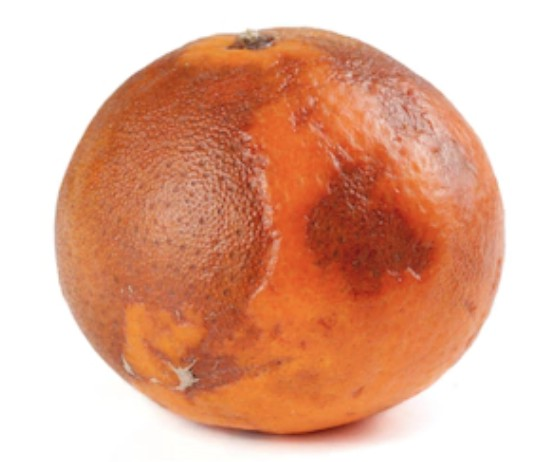rotten_orange: (54, 27, 506, 435)
